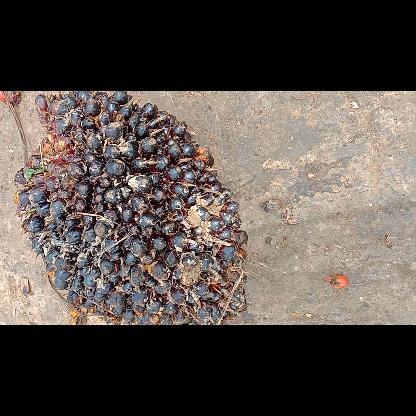TBS mentah: (11, 90, 250, 324)
